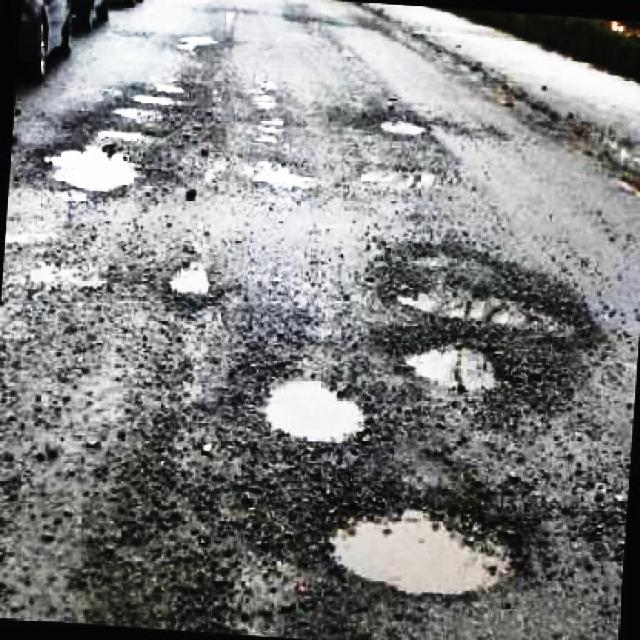pothole: (318, 482, 542, 604), (382, 242, 584, 346), (396, 325, 536, 400), (257, 368, 375, 452), (34, 134, 144, 195), (108, 79, 204, 126), (357, 149, 437, 191), (162, 257, 216, 309), (368, 108, 432, 143), (252, 151, 305, 192)
